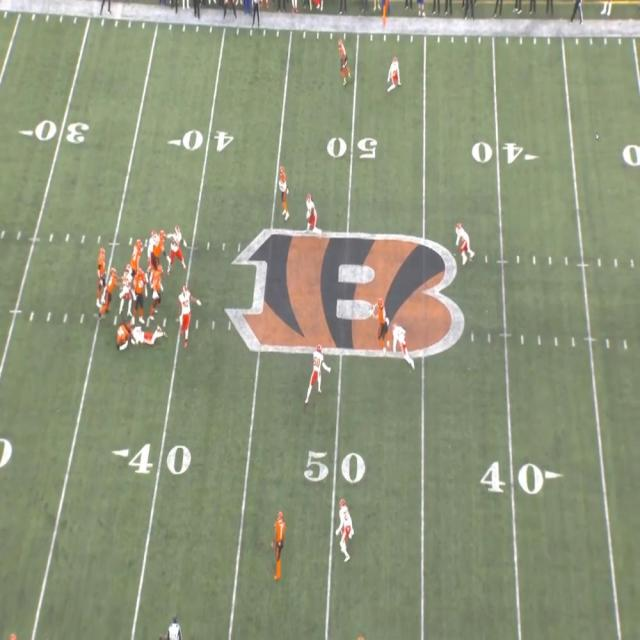db: (338, 500, 356, 560), (392, 322, 412, 367), (119, 263, 133, 314), (456, 225, 470, 265), (390, 58, 402, 92)
lb: (311, 344, 325, 388), (307, 192, 320, 230)
qb: (96, 246, 105, 301)
skill: (275, 510, 284, 581), (104, 264, 116, 312), (337, 42, 350, 85), (278, 163, 288, 211), (379, 298, 389, 343)
